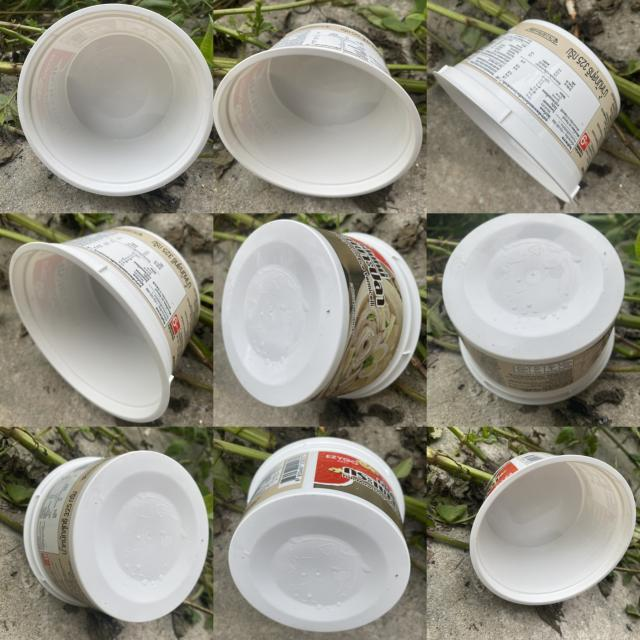Single-Use-Plastic: (18, 4, 212, 196), (221, 220, 421, 406), (10, 226, 200, 421), (214, 24, 421, 197), (442, 214, 625, 405), (229, 438, 410, 631), (435, 20, 620, 201), (24, 451, 209, 622), (470, 452, 636, 605)
